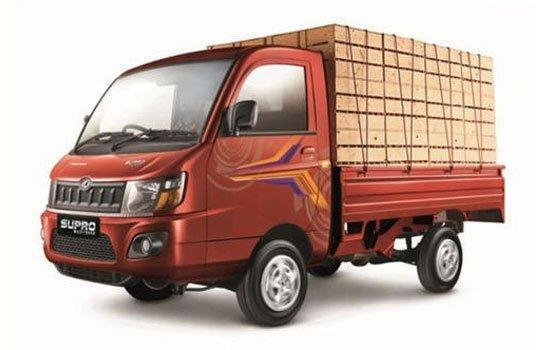truck: (41, 23, 505, 327)
